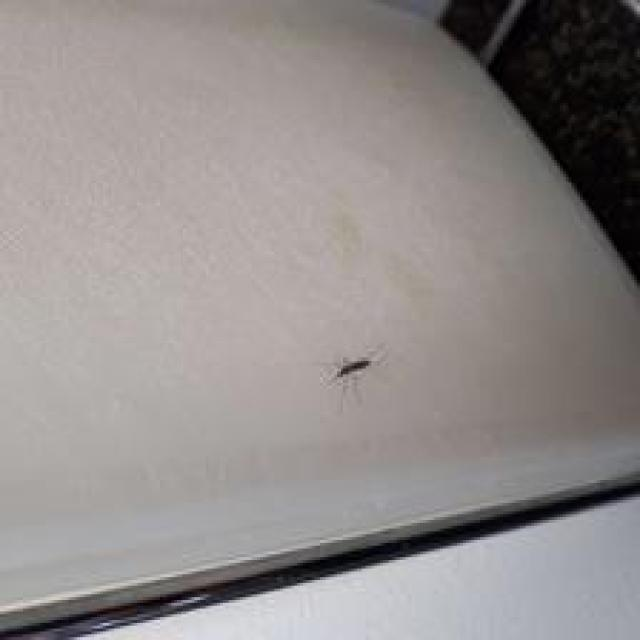Culex: (334, 354, 372, 380)
